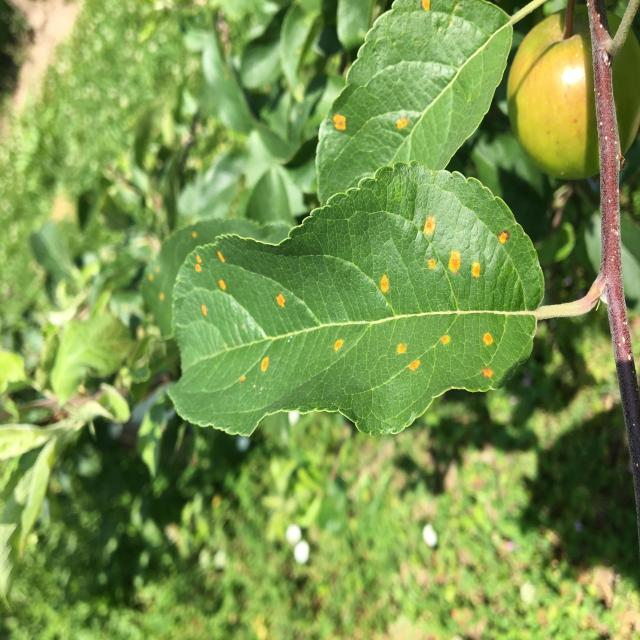rust: (164, 161, 546, 439), (313, 0, 514, 208)
